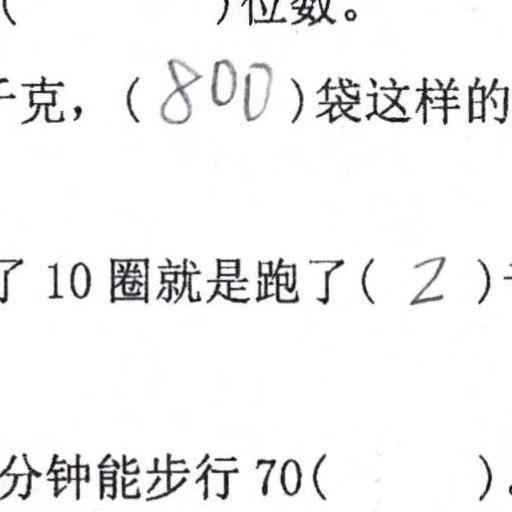ans: (154, 48, 273, 128), (403, 249, 448, 307)
